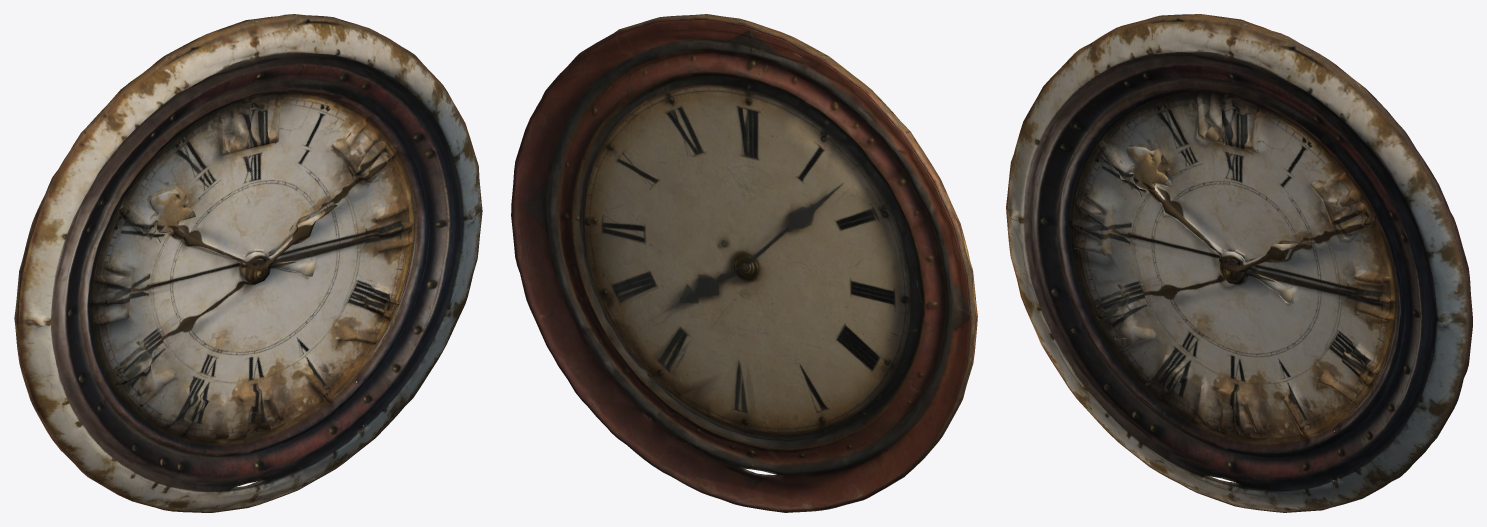
The model's file is Meshy_Model_20250604_202420.glb.
3 views of the same model, side by side, from view 1: azimuth 30°, elevation 25°; view 2: azimuth 150°, elevation 25°; view 3: azimuth 330°, elevation 25° (orthographic).
Bounding box in the file's own units: 2 × 2 × 0.1092.
1 material, 1 textured.
